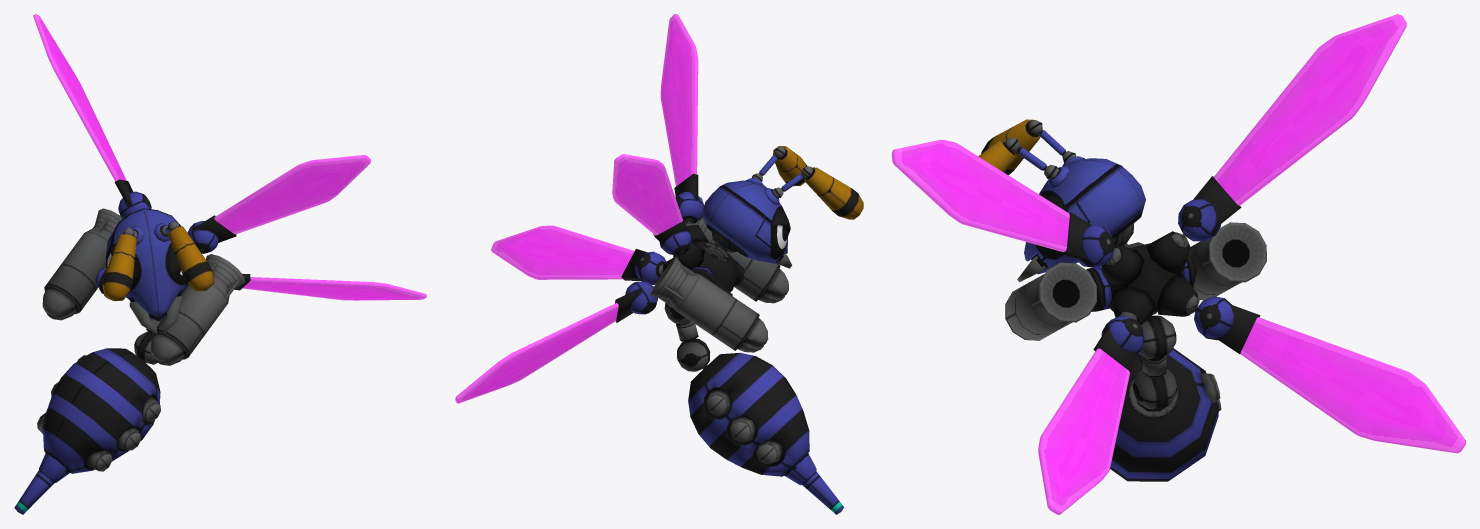
File: Buzz-Bomber.glb
3 views of the same model, side by side, from view 1: azimuth 30°, elevation 25°; view 2: azimuth 150°, elevation 25°; view 3: azimuth 270°, elevation 25° (orthographic). The views are drawn at different scales.
Visible parts, largest first — view 1: stu_enm_beeton; view 2: stu_enm_beeton; view 3: stu_enm_beeton.
Part boxes in pixels (x1,y1,x2,y2): stu_enm_beeton: [14, 14, 426, 514]; stu_enm_beeton: [455, 14, 863, 514]; stu_enm_beeton: [892, 14, 1465, 514].
Size of the model in its own units: 1.39 by 1.4 by 1.38.
Materials: 4 (3 with a texture image).
